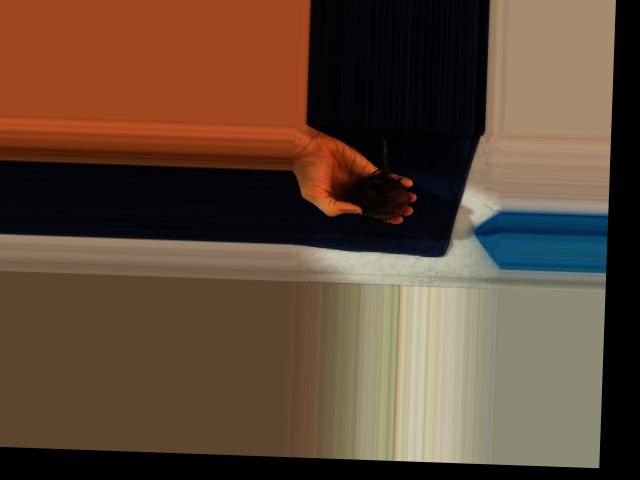beet: (350, 133, 411, 226)
